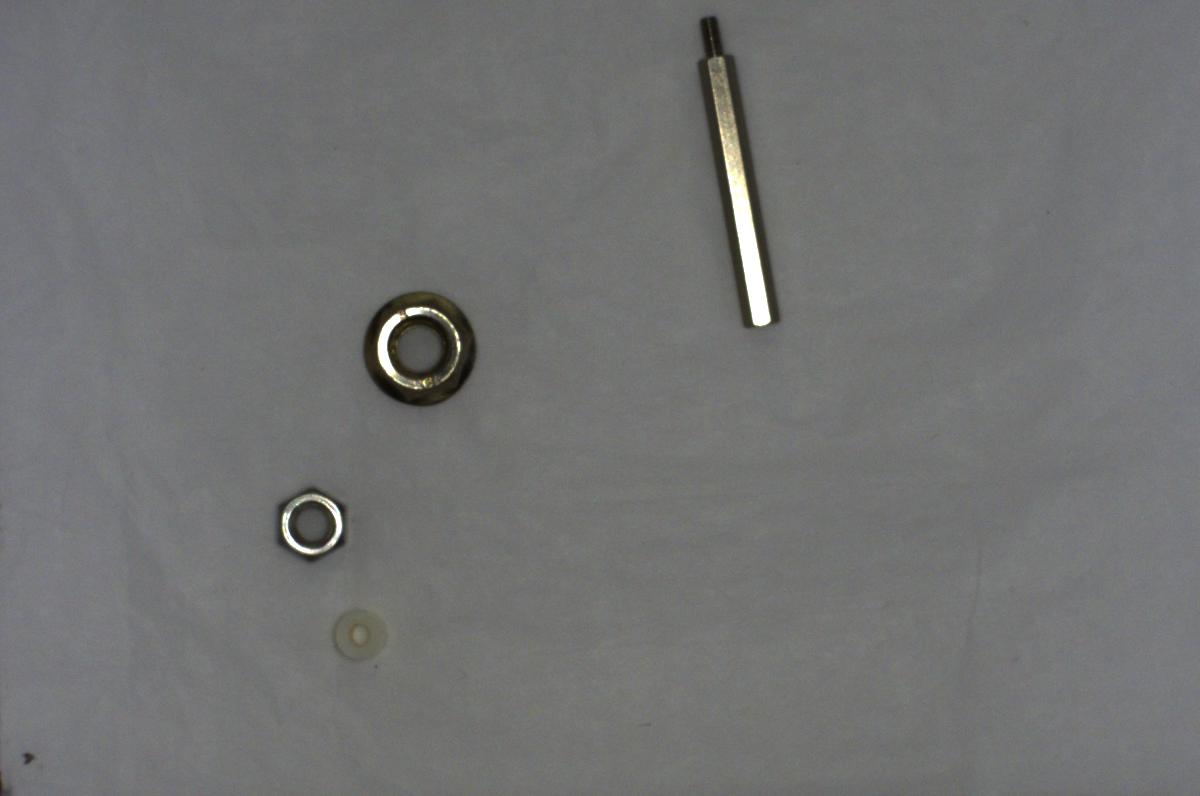Flange nut: (354, 287, 487, 413)
Hexagon nut: (266, 479, 358, 567)
Hexagonal steel column: (680, 8, 791, 340)
Plastic cushion pillar: (317, 595, 400, 674)
